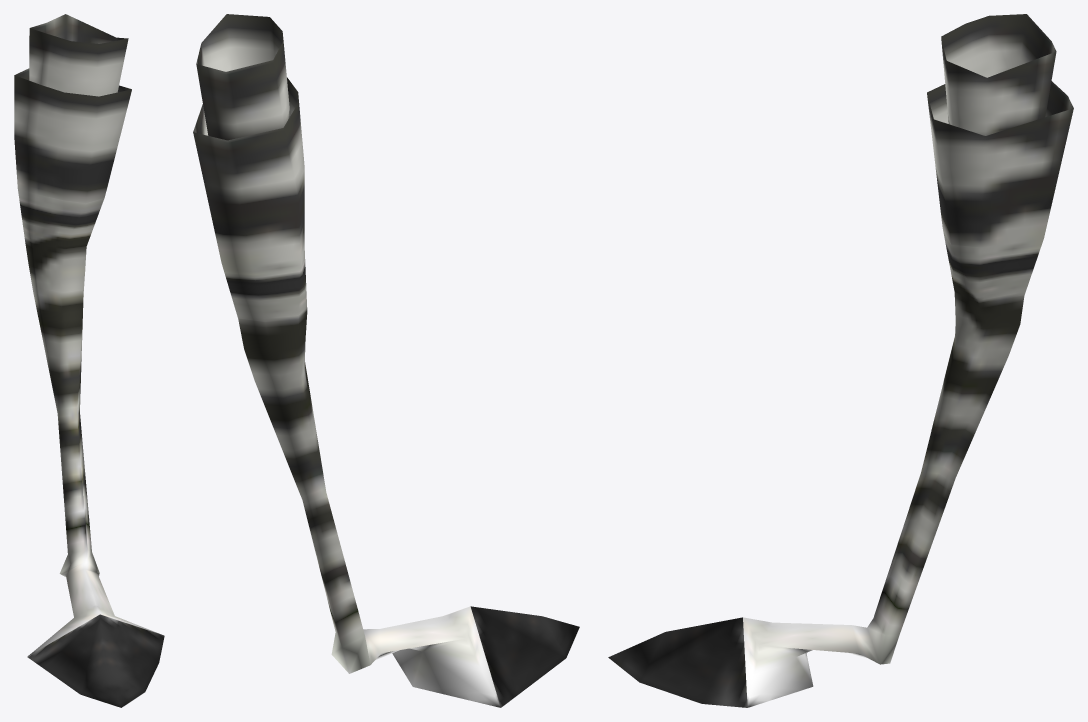
Rendered from cebra_pata_der_enfr.obj.
3 views of the same model, side by side, from view 1: azimuth 30°, elevation 25°; view 2: azimuth 150°, elevation 25°; view 3: azimuth 270°, elevation 25° (orthographic). The views are drawn at different scales.
Visible parts, largest first — view 1: cebra_pata_der_enfr; view 2: cebra_pata_der_enfr; view 3: cebra_pata_der_enfr.
Part boxes in pixels (x1,y1,x2,y2): cebra_pata_der_enfr: (14, 14, 164, 707); cebra_pata_der_enfr: (193, 14, 579, 707); cebra_pata_der_enfr: (608, 14, 1073, 707).
Size of the model in its own units: 8.05 by 25.88 by 15.75.
Materials: 1 (1 with a texture image).
